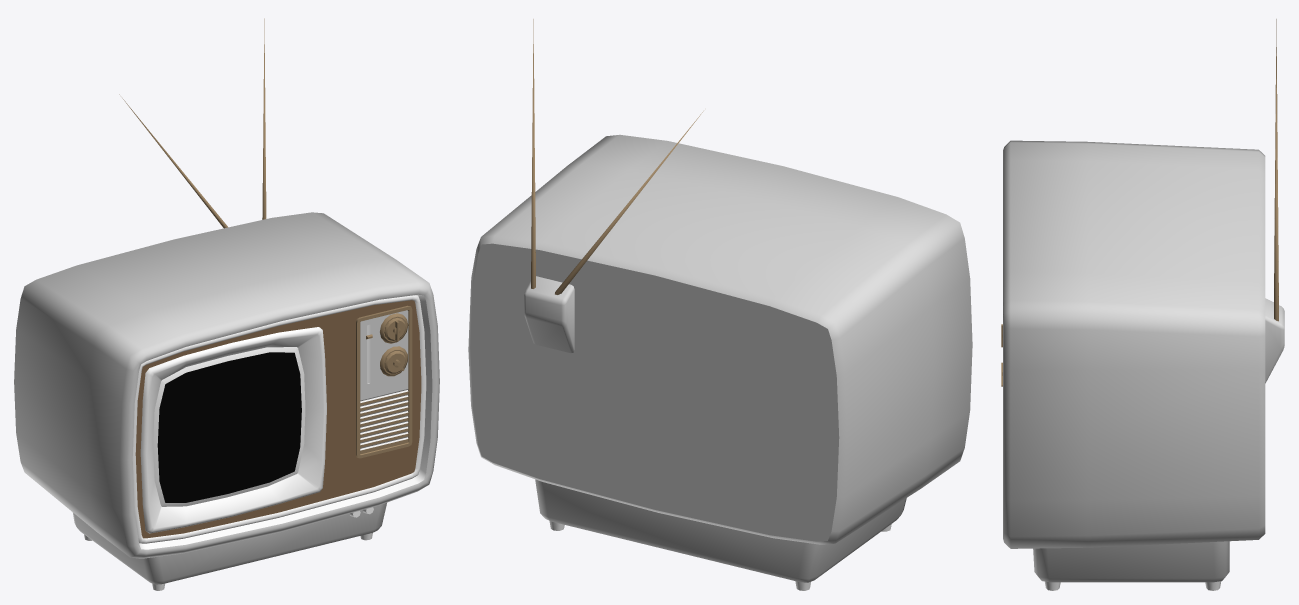
The model's file is Floridita TV Set.fbx.
3 views of the same model, side by side, from view 1: azimuth 30°, elevation 25°; view 2: azimuth 150°, elevation 25°; view 3: azimuth 270°, elevation 25° (orthographic). The views are drawn at different scales.
Parts seen in each view (by area): view 1: polySurface9; view 2: polySurface9; view 3: polySurface9.
Part boxes in pixels (<box>): polySurface9: <box>14,18,439,590</box>; polySurface9: <box>468,19,972,590</box>; polySurface9: <box>1001,19,1284,590</box>.
Size of the model in its own units: 11.86 by 16.13 by 7.74.
